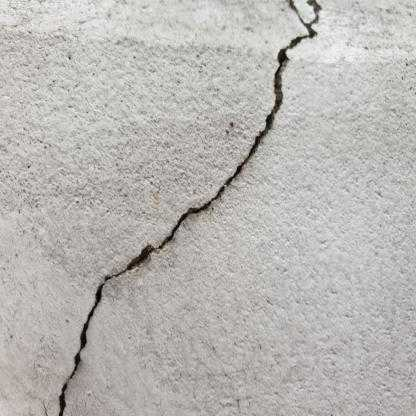crack: (69, 0, 322, 379), (57, 382, 68, 414)
